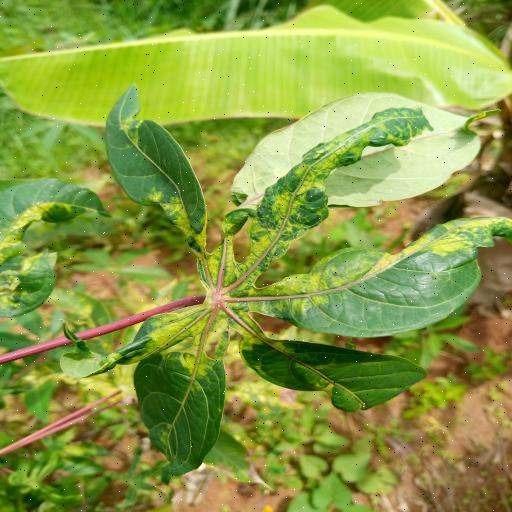Cassava_Mosaic: (57, 89, 512, 484)
